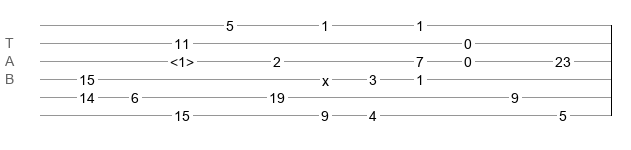0: (464, 36, 472, 46), (464, 54, 472, 64)
1: (321, 18, 329, 28), (416, 18, 424, 28), (416, 72, 424, 82)
11: (174, 36, 190, 46)
14: (79, 90, 95, 100)
15: (79, 72, 95, 82), (174, 108, 190, 118)
19: (269, 90, 285, 100)
2: (273, 54, 281, 64)
23: (555, 54, 571, 64)
3: (369, 72, 377, 82)
4: (369, 108, 377, 118)
5: (226, 18, 234, 28), (559, 108, 567, 118)
6: (131, 90, 139, 100)
7: (416, 54, 424, 64)
9: (321, 108, 329, 118), (511, 90, 519, 100)
harmonic: (170, 54, 194, 64)
x: (322, 73, 329, 81)
